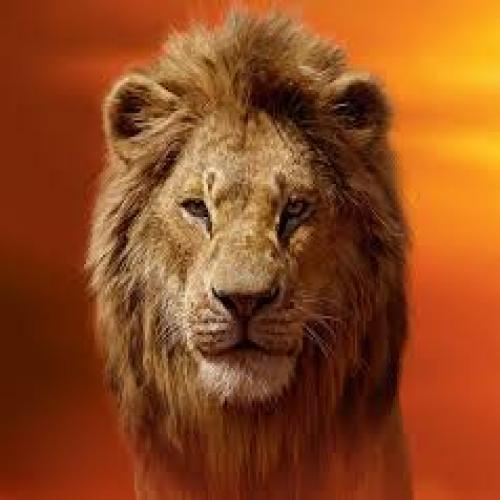lion-endangered: (98, 17, 407, 500)
